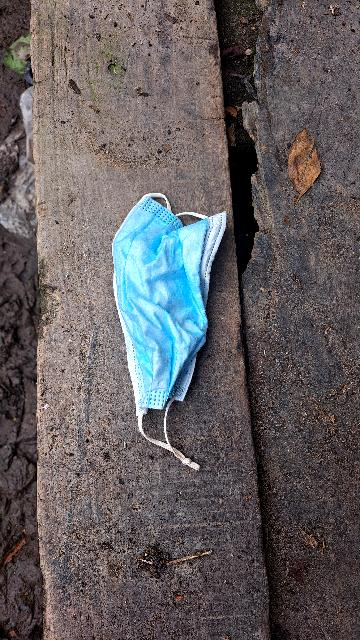mask: (62, 150, 280, 509)
